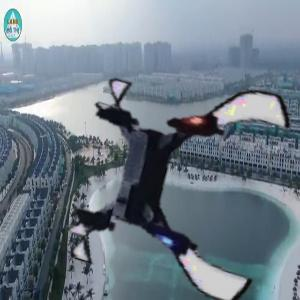drone: (71, 69, 294, 292)
